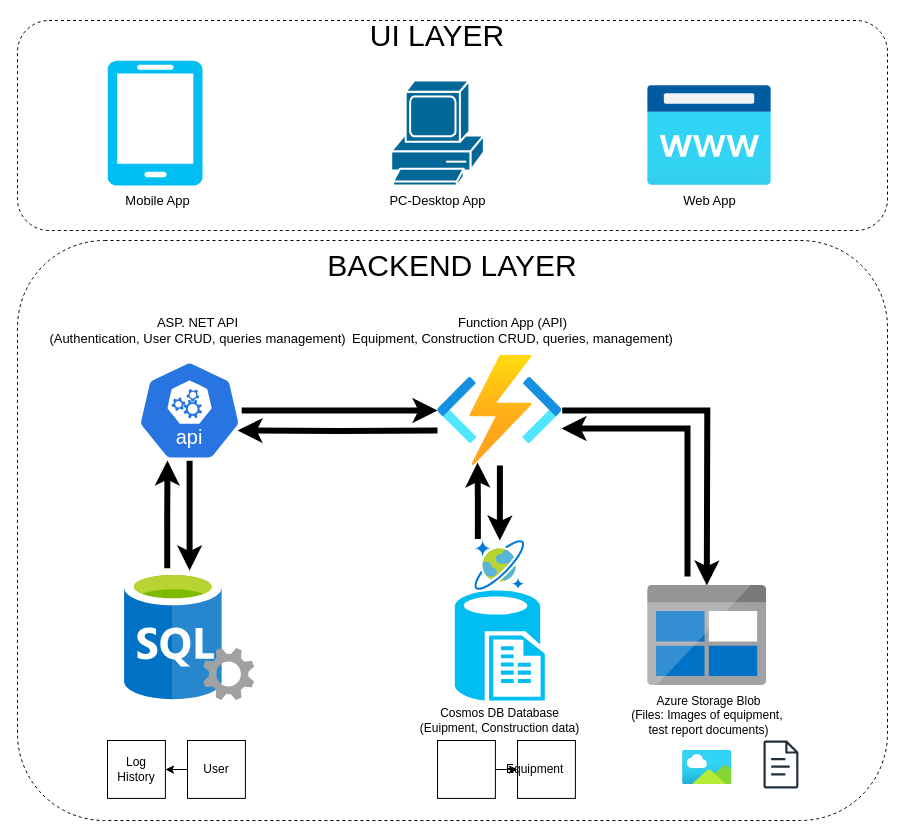
Some shapes in this 905 by 838 pixel diagram are drawn without their labels. The shapes that lost their labels are listed below. From the top down, each one's box as (x1, y1, x2, y2) in pixels, then its label:
(124, 570, 254, 700): SQL Server (User data)
(436, 740, 495, 798): Construction
